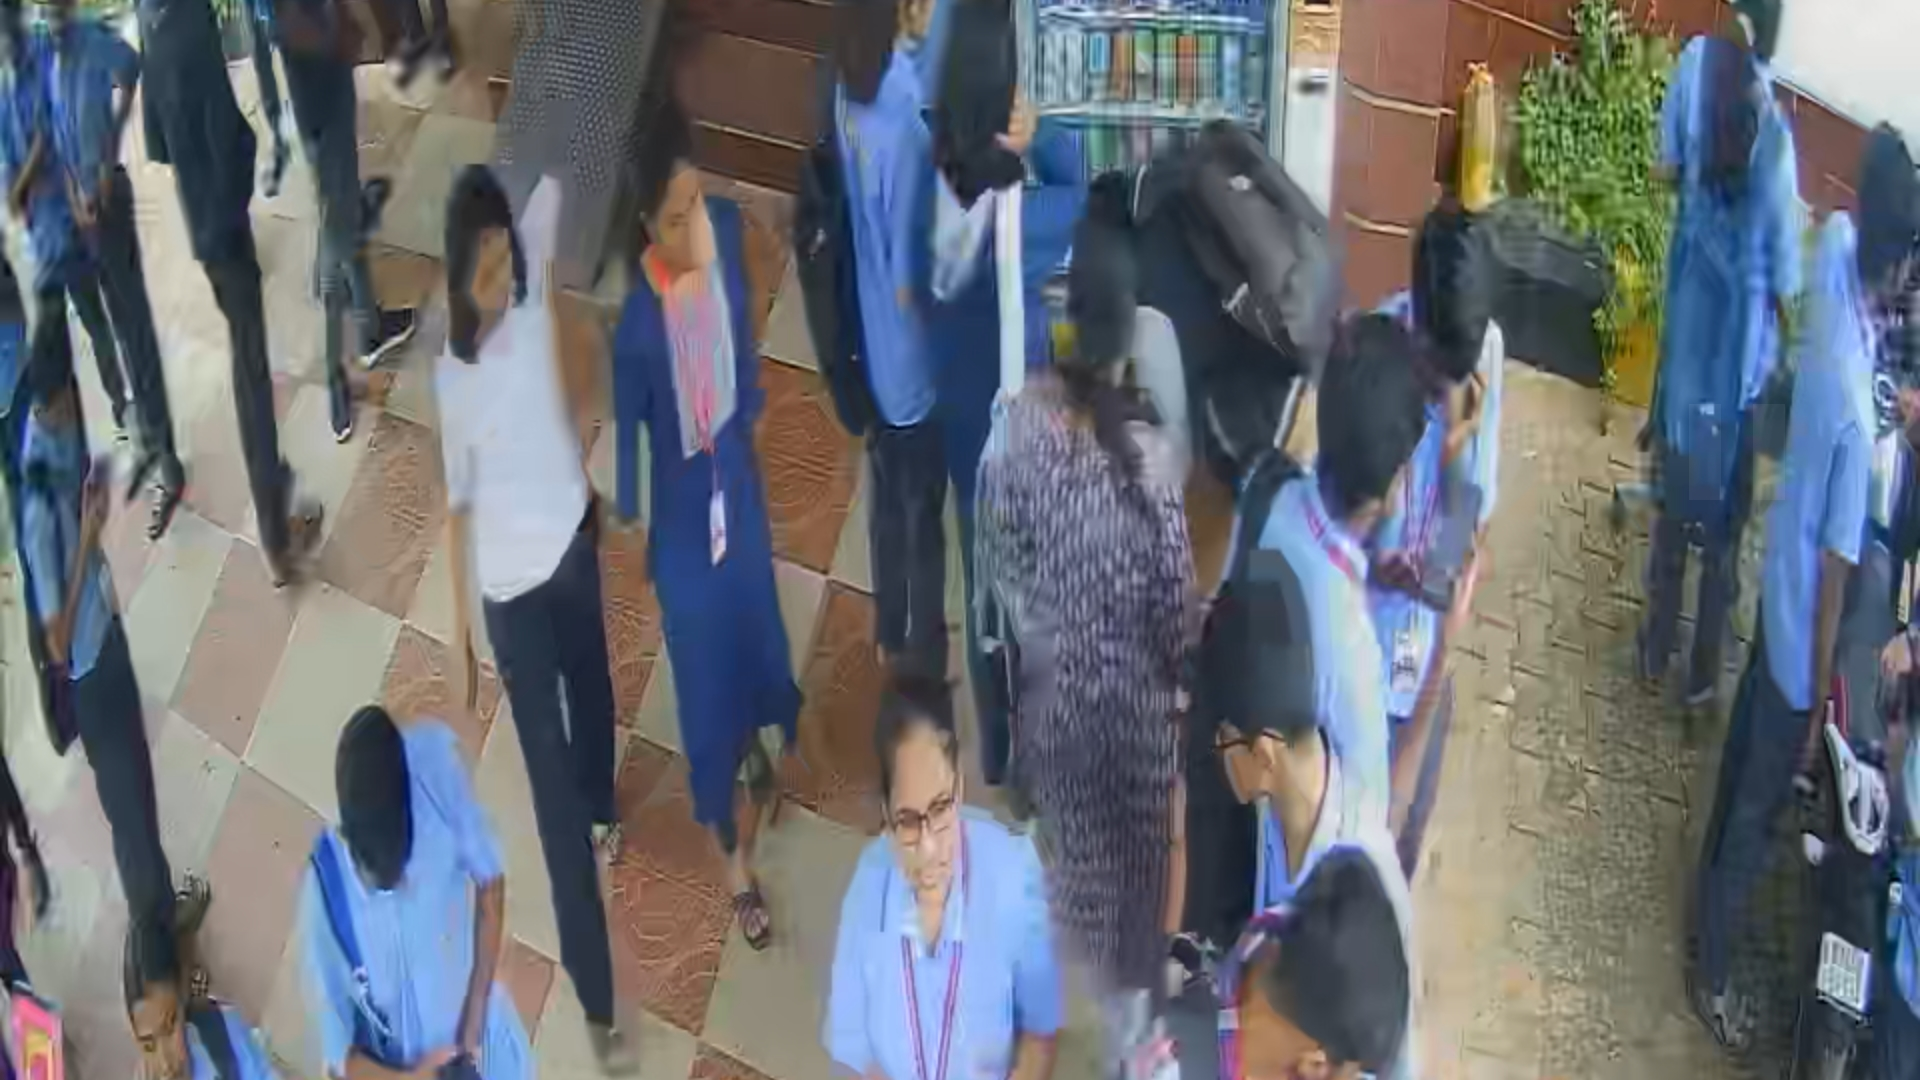intruder: (433, 152, 657, 1018), (264, 686, 580, 1065)
not intruder: (612, 95, 823, 924), (832, 694, 1091, 1080)
